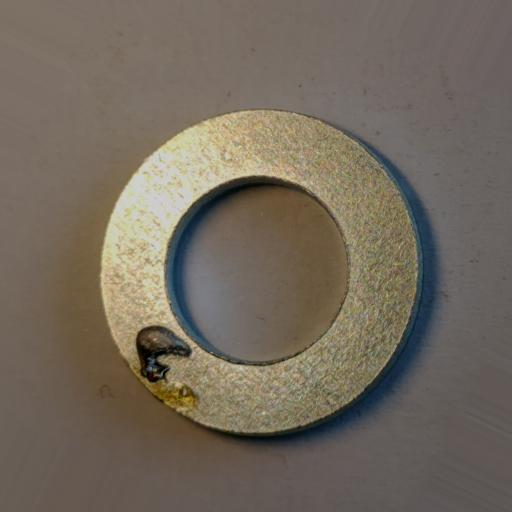excess_material: (135, 325, 191, 384)
